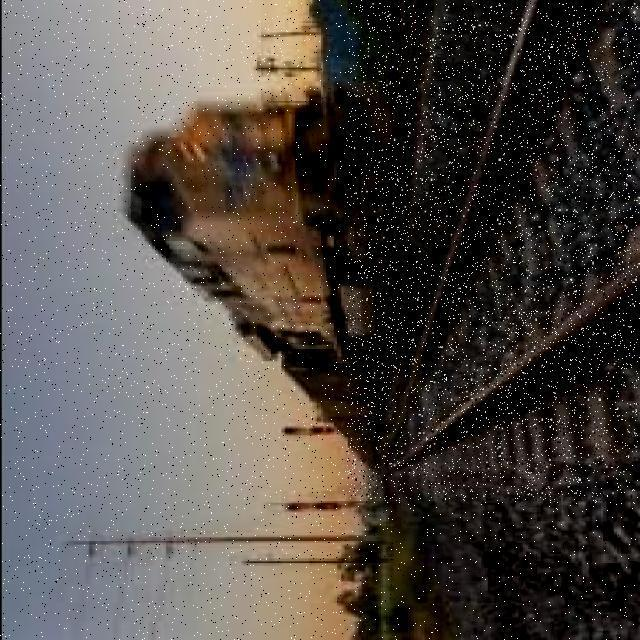rail: (348, 3, 638, 501)
